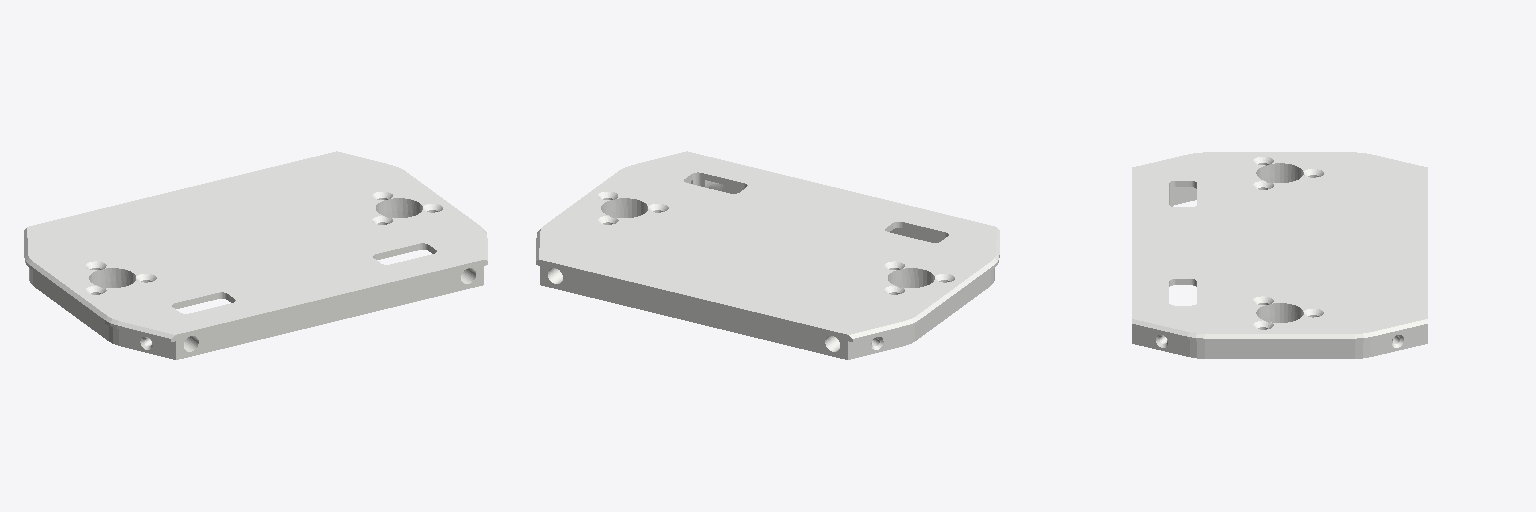
File: chassis_back.obj
The picture shows the model from 3 angles: view 1: azimuth 30°, elevation 25°; view 2: azimuth 150°, elevation 25°; view 3: azimuth 270°, elevation 25°; orthographic projection.
Visible parts, largest first — view 1: back; view 2: back; view 3: back.
Boxes of the visible parts, box(x1,y1,x2,y2) form: back: box(24, 151, 487, 359); back: box(536, 151, 999, 359); back: box(1132, 152, 1427, 358).
Bounding box in the file's own units: 0.124 × 0.008 × 0.084.